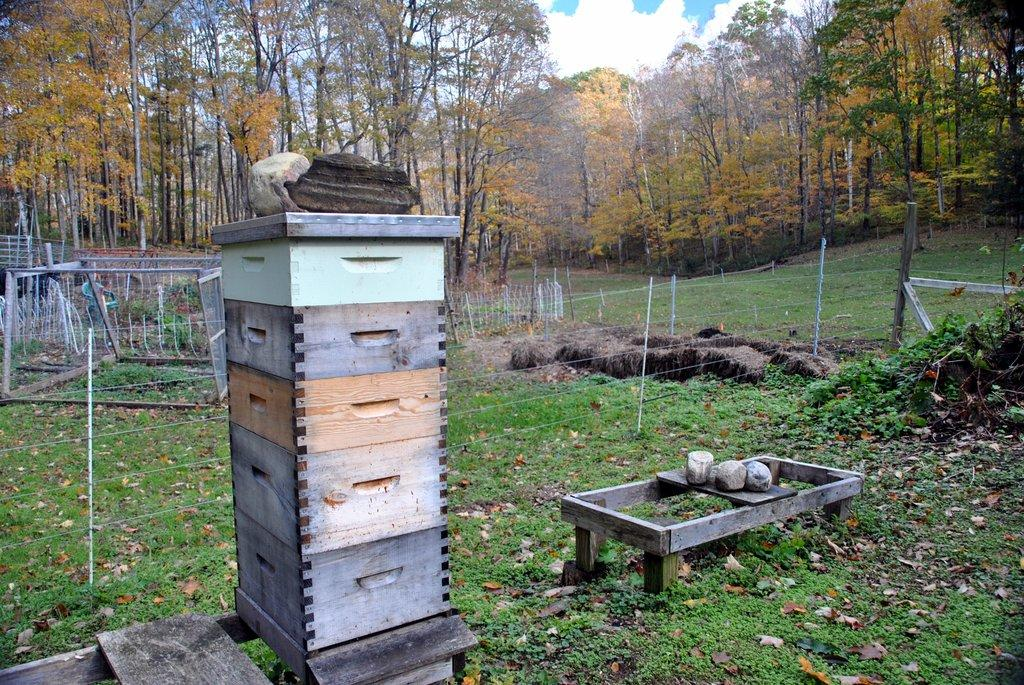cabinet_door: (300, 461, 445, 527), (306, 541, 448, 608), (296, 314, 442, 371), (296, 242, 446, 296), (312, 382, 444, 442), (232, 443, 306, 536), (236, 534, 295, 618), (230, 307, 296, 371), (230, 382, 296, 440), (228, 251, 290, 297)
handle: (343, 460, 407, 498), (332, 248, 407, 276), (348, 323, 404, 352), (348, 392, 402, 420), (348, 565, 406, 591), (244, 462, 280, 493), (240, 390, 274, 417), (240, 324, 278, 348), (236, 251, 273, 271), (249, 551, 281, 574)
